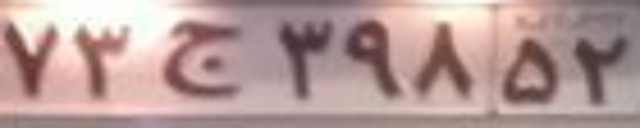2: (571, 33, 628, 103)
3: (275, 17, 340, 100), (72, 21, 138, 97)
5: (500, 37, 563, 104)
7: (3, 21, 62, 98)
8: (407, 21, 475, 100)
9: (345, 20, 398, 98)
jim: (164, 20, 249, 98)
